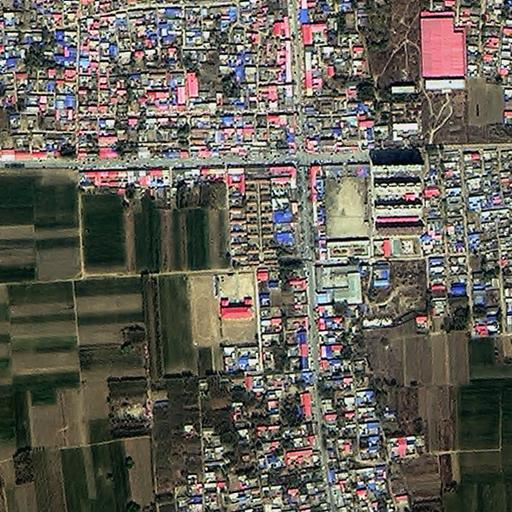school: (184, 269, 260, 346)
